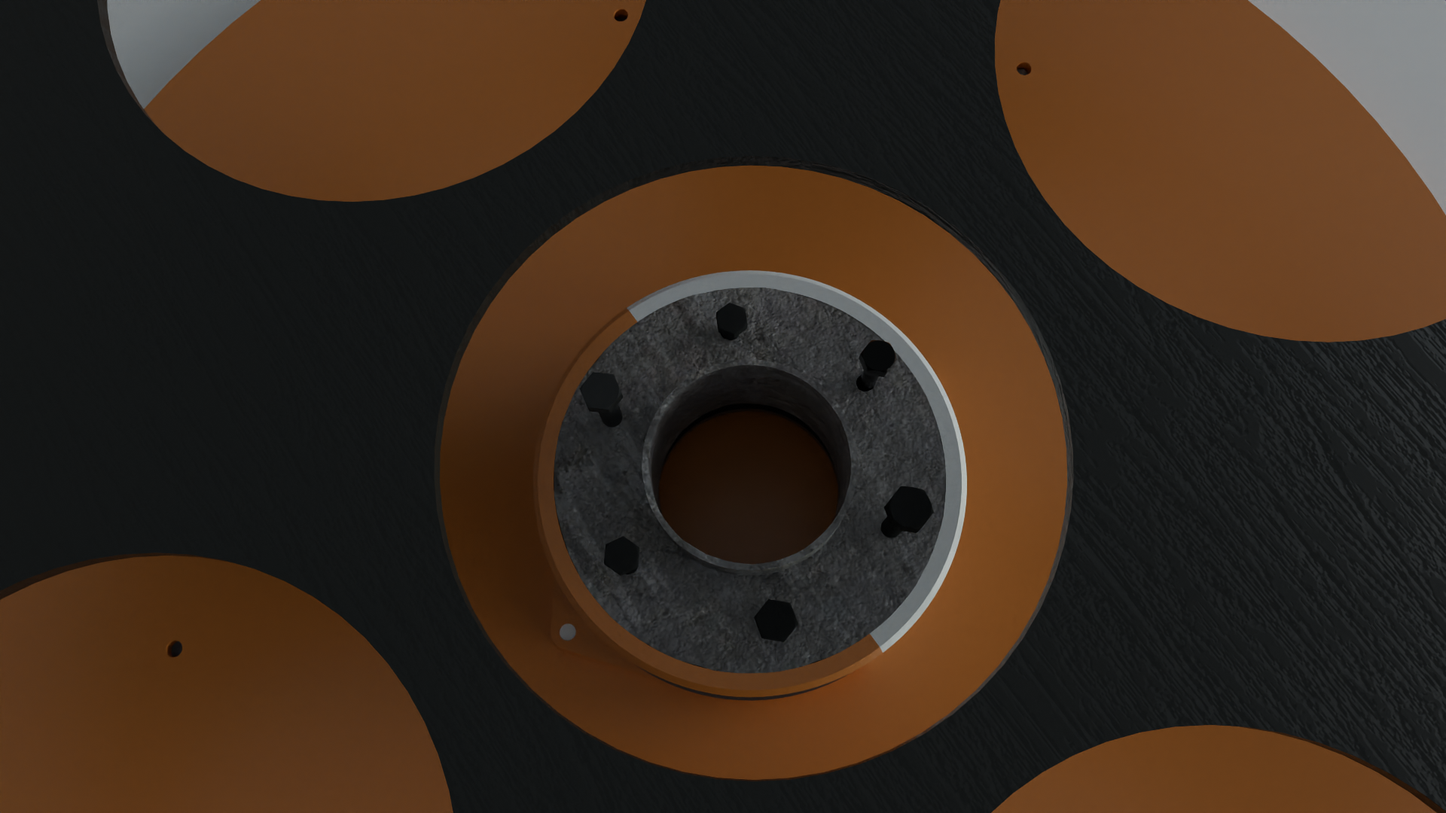bolt: (886, 486, 934, 531), (755, 599, 798, 641), (580, 373, 621, 410), (604, 536, 639, 574), (860, 340, 897, 373), (716, 303, 747, 334)
